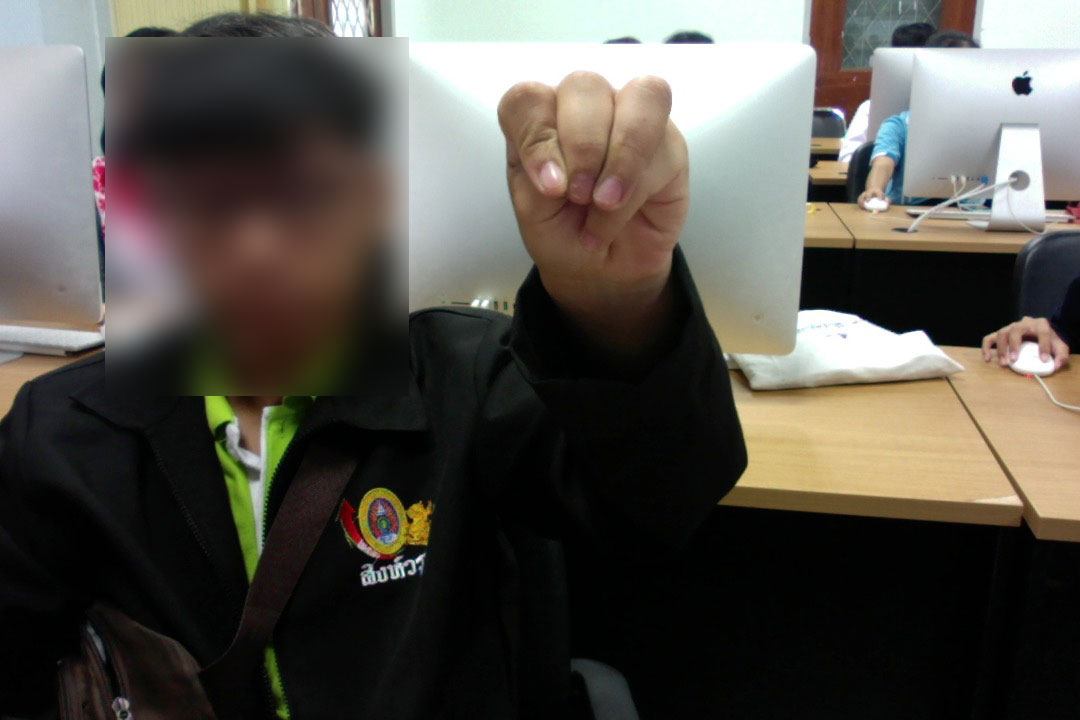mor: (492, 59, 697, 289)
